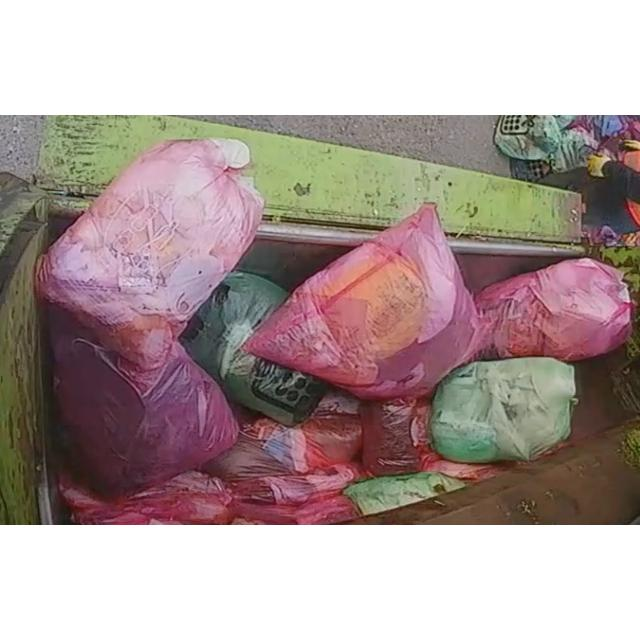general_trashbag: (181, 271, 326, 426), (430, 358, 575, 464)
other_trashbag: (38, 139, 264, 371), (244, 204, 480, 400), (46, 304, 239, 498), (475, 259, 632, 361)
